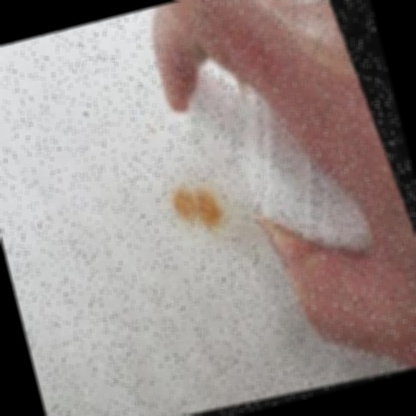kimchi: (171, 183, 223, 240)
